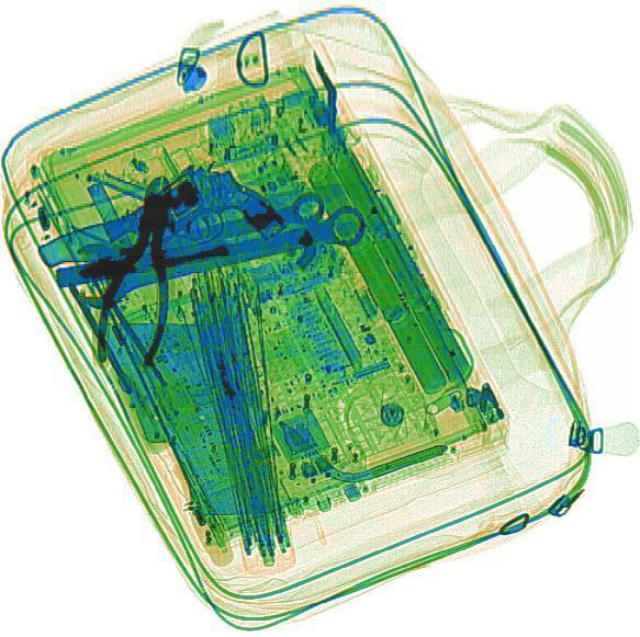Gun: (94, 148, 290, 298)
Pliers: (86, 168, 192, 369)
Wrench: (68, 198, 372, 309), (70, 181, 330, 282)
